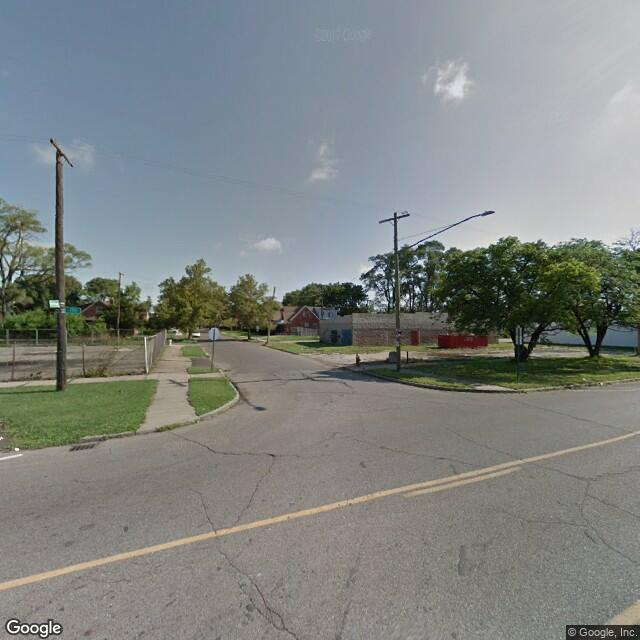litter: (594, 379, 608, 391), (10, 444, 23, 455)
